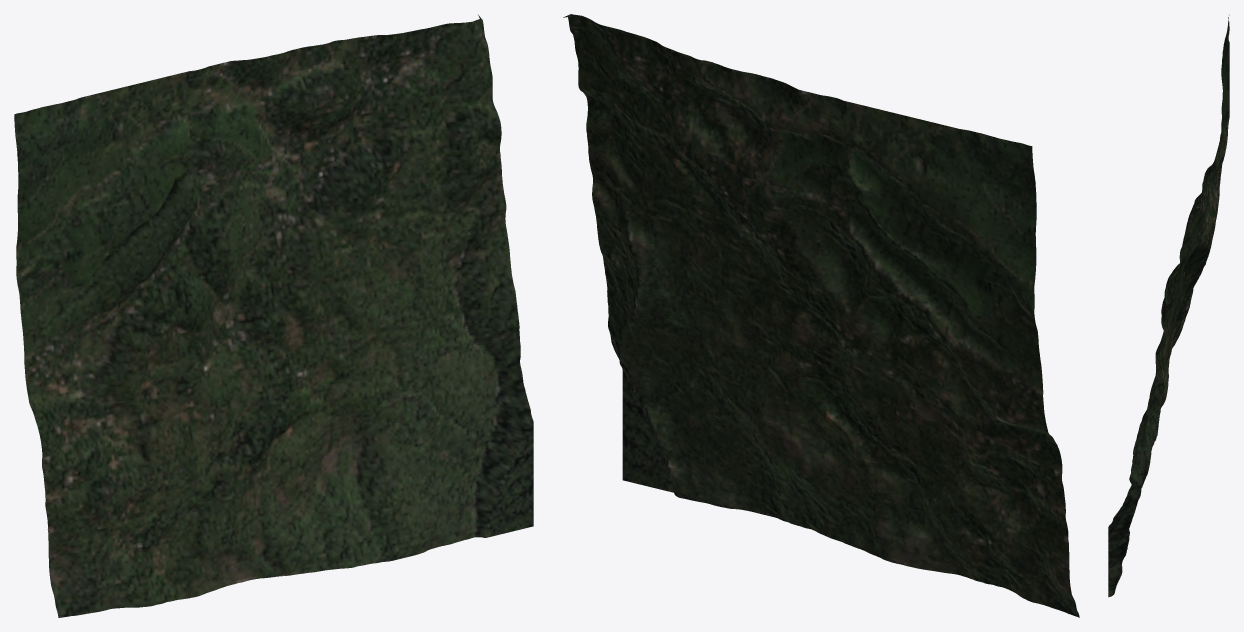
The model's file is current.glb.
The picture shows the model from 3 angles, left to right: view 1: azimuth 30°, elevation 25°; view 2: azimuth 150°, elevation 25°; view 3: azimuth 270°, elevation 25°; orthographic projection. The views are drawn at different scales.
Visible parts, largest first — view 1: geometry_0; view 2: geometry_0; view 3: geometry_0.
Part boxes in pixels (<box>): geometry_0: <box>14,15,533,617</box>; geometry_0: <box>563,14,1079,617</box>; geometry_0: <box>1108,15,1229,597</box>.
Bounding box in the file's own units: 187 × 187 × 50.
Materials: 1 (1 with a texture image).
